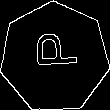P_W: (29, 38, 80, 77)
